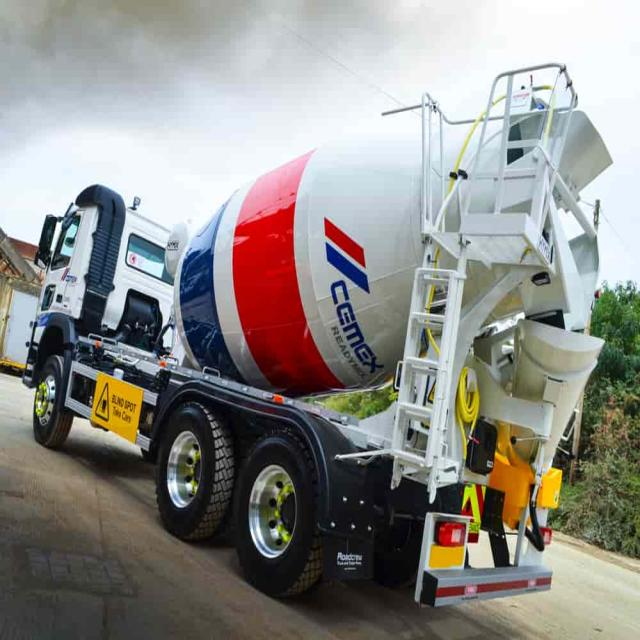truck: (22, 63, 611, 606)
